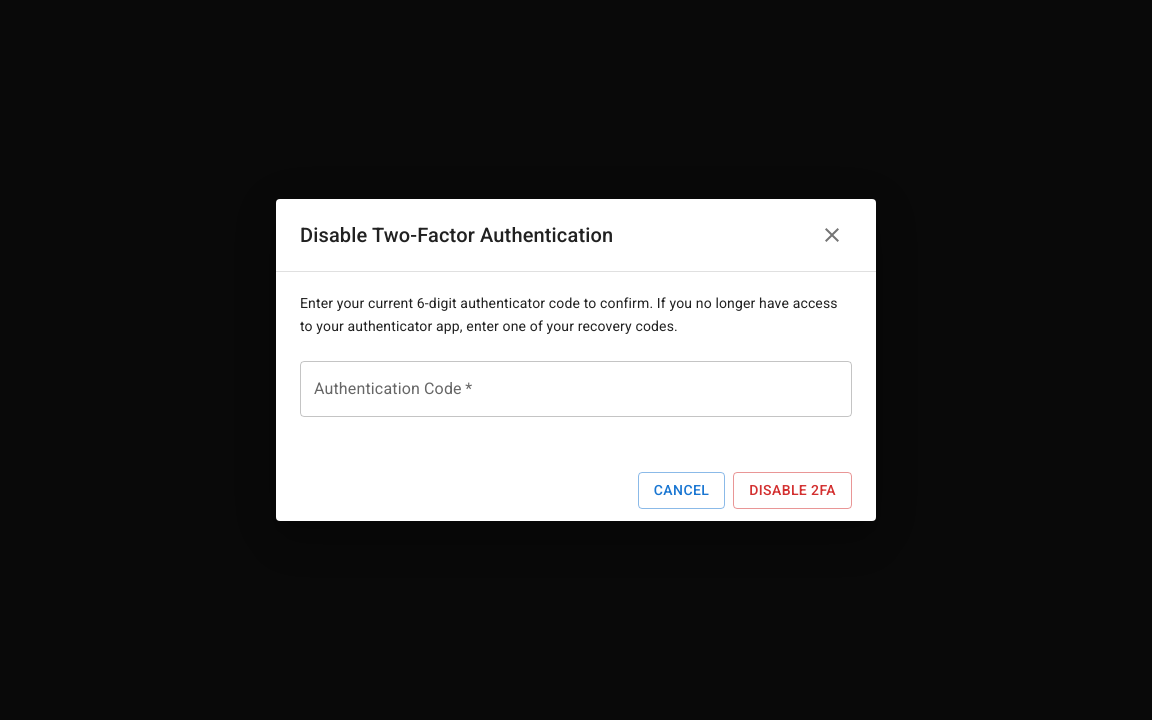
Test: Disable2FADialog › Successful disable flow › Shows loading state while submitting
The image size is (1152, 720).
Type "123456" into the field labelled "Authentication Code *". click: (576, 389)
box: [300, 361, 852, 417]
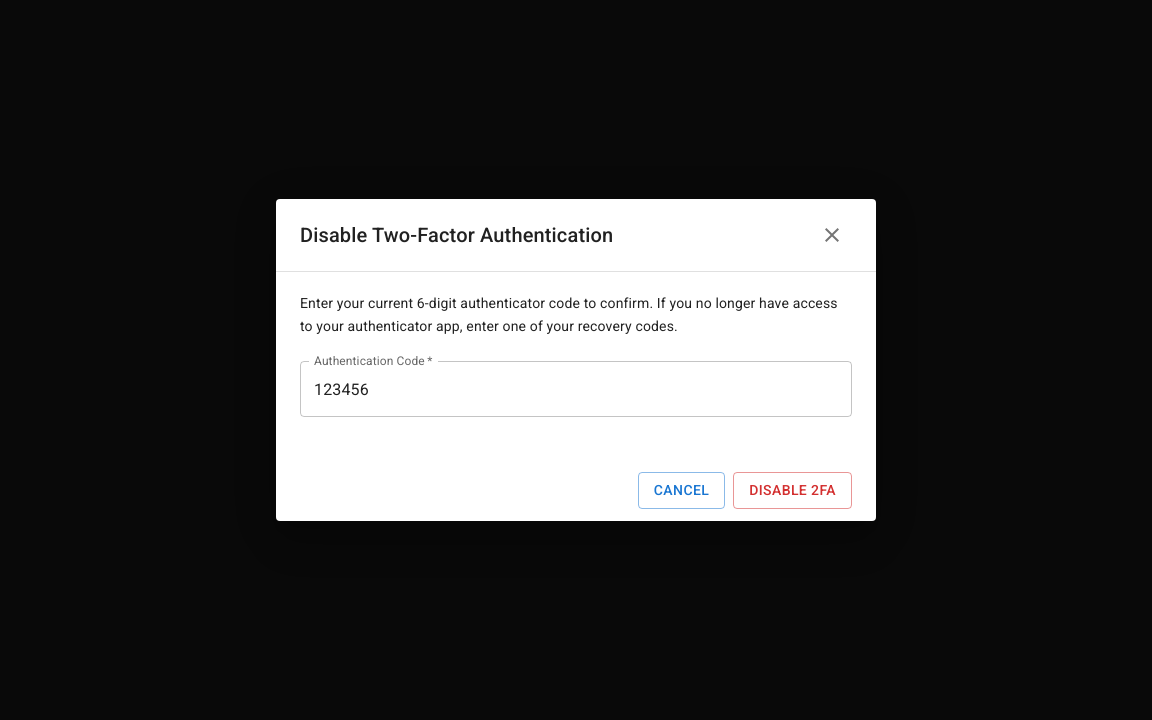
Click the button "Disable 2FA". click: (793, 490)
box: [733, 472, 852, 509]
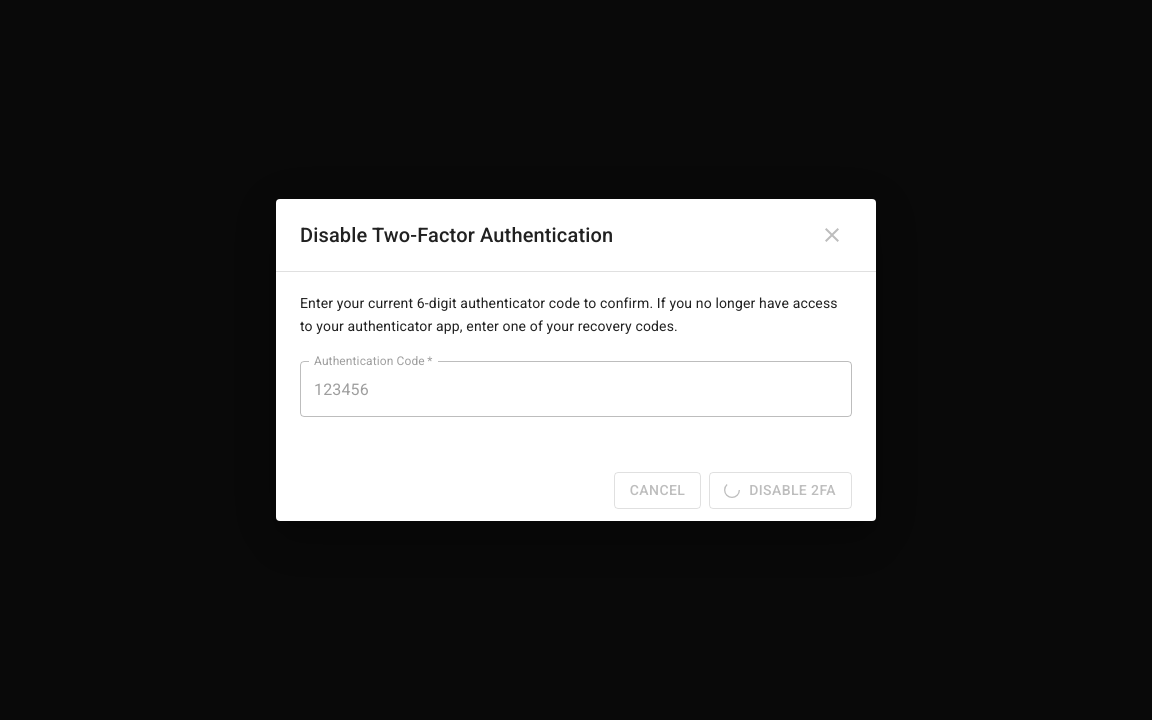
Result: the button "Disable 2FA" is disabled at [709, 472, 852, 509]
